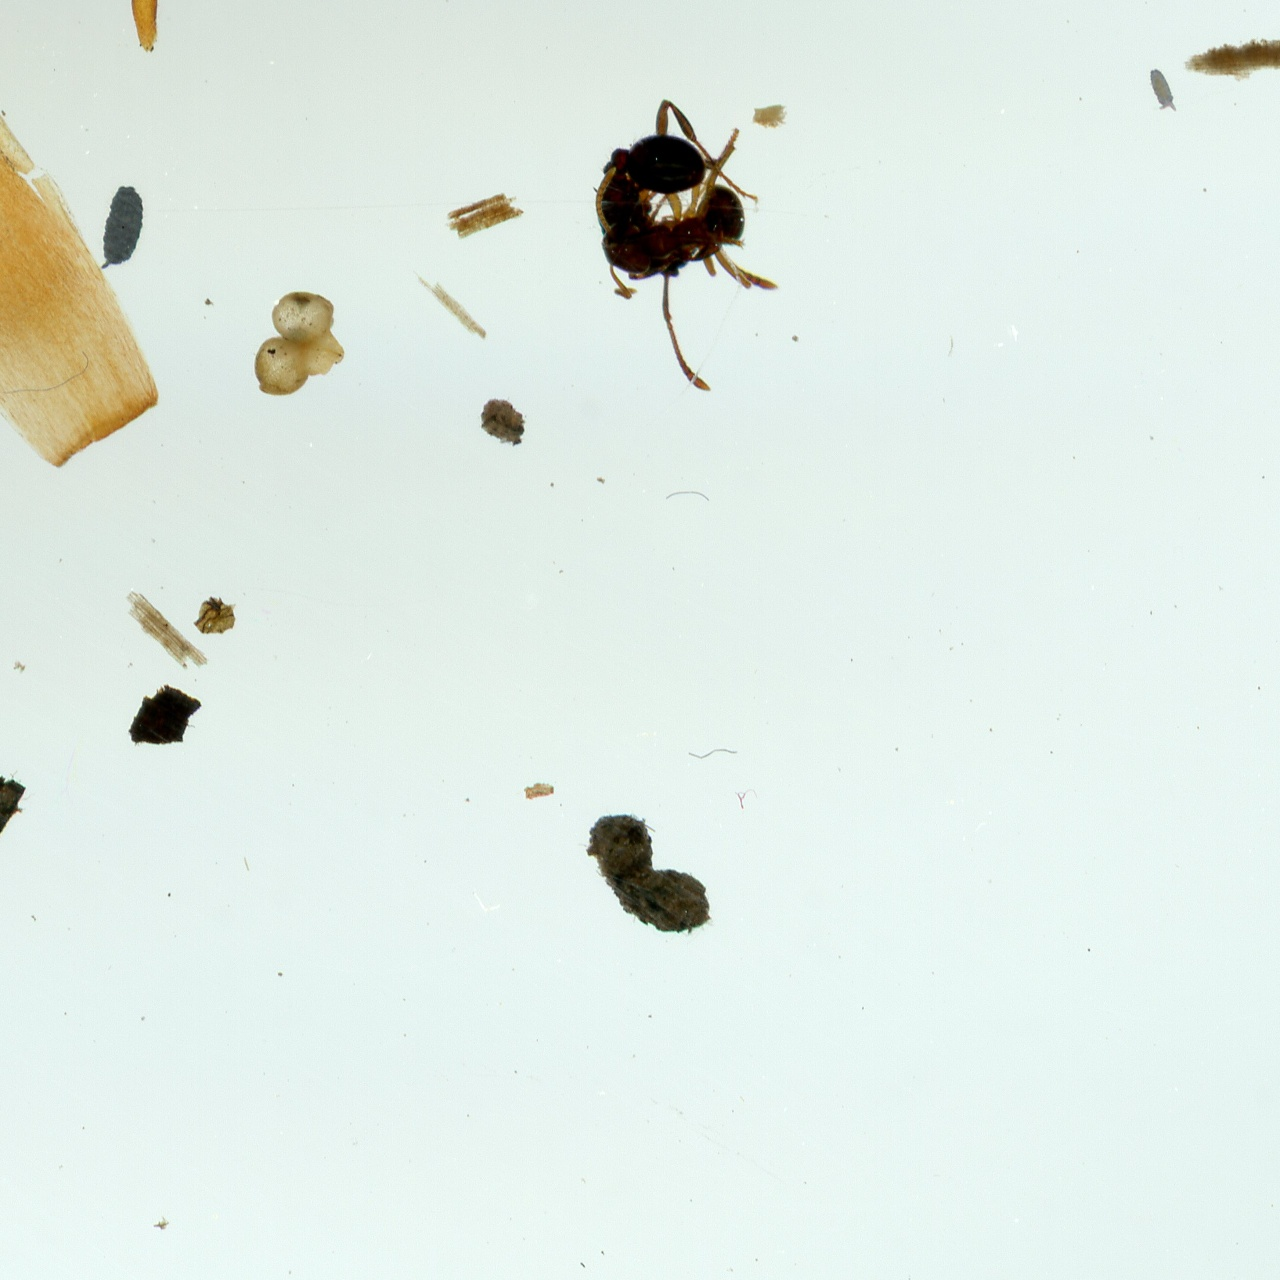arthropod: (589, 94, 784, 396), (94, 177, 154, 282), (1145, 60, 1182, 117)
